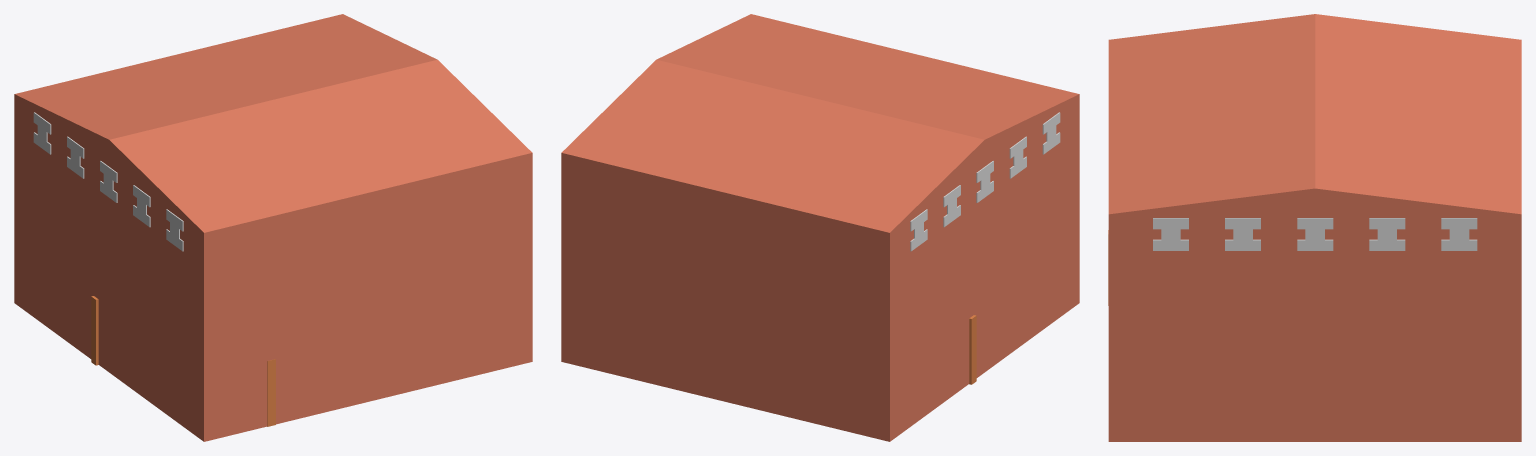
File: Warehouse.fbx
3 views of the same model, side by side, from view 1: azimuth 30°, elevation 25°; view 2: azimuth 150°, elevation 25°; view 3: azimuth 270°, elevation 25° (orthographic). The views are drawn at different scales.
Visible parts, largest first — view 1: Walls, Rafters, Cube.003, Cube.005; view 2: Walls, Rafters, Cube.005; view 3: Walls, Rafters.
Boxes of the visible parts, x1,y1,x2,y2 form: Walls: (14, 14, 532, 441); Rafters: (33, 112, 183, 251); Cube.003: (267, 359, 275, 426); Cube.005: (91, 296, 98, 365); Walls: (561, 14, 1079, 441); Rafters: (910, 112, 1060, 251); Cube.005: (969, 315, 976, 384); Walls: (1108, 14, 1521, 441); Rafters: (1153, 218, 1477, 250).
Bounding box in the file's own units: 2315 × 1554 × 2293.
